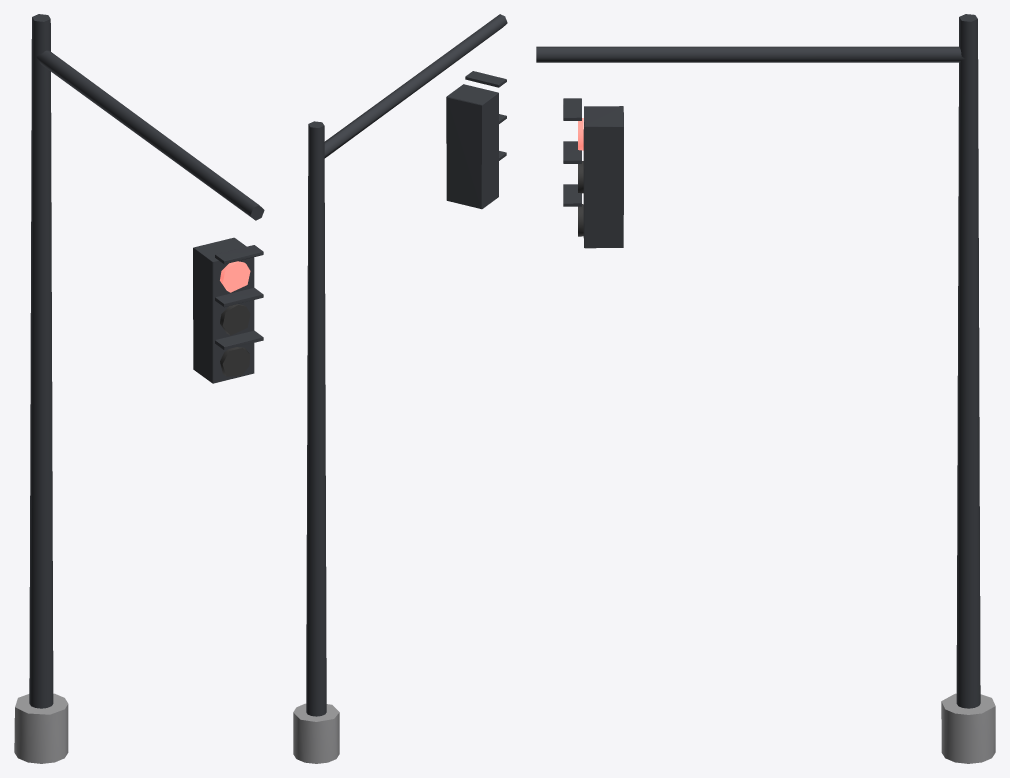
Rendered from prop_traffic_light_lod1.glb.
3 renders of one model, left to right at view 1: azimuth 30°, elevation 25°; view 2: azimuth 150°, elevation 25°; view 3: azimuth 270°, elevation 25°, orthographic. The views are drawn at different scales.
Visible parts, largest first — view 1: signal_mast_lod1, signal_head_lod1, signal_visors_lod1, signal_lens_green_lod1, signal_lens_amber_lod1, signal_lens_red_lod1; view 2: signal_mast_lod1, signal_head_lod1, signal_visors_lod1; view 3: signal_mast_lod1, signal_head_lod1, signal_visors_lod1.
Boxes of the visible parts, x1,y1,x2,y2 form: signal_mast_lod1: (14, 14, 264, 763); signal_head_lod1: (193, 237, 254, 383); signal_visors_lod1: (215, 245, 263, 349); signal_lens_green_lod1: (220, 347, 249, 376); signal_lens_amber_lod1: (220, 304, 250, 335); signal_lens_red_lod1: (220, 261, 250, 292); signal_mast_lod1: (293, 14, 507, 763); signal_head_lod1: (446, 84, 498, 209); signal_visors_lod1: (465, 71, 506, 160); signal_mast_lod1: (536, 14, 995, 763); signal_head_lod1: (583, 106, 623, 248); signal_visors_lod1: (563, 98, 581, 206).
Bounding box in the file's own units: 0.4008 × 6 × 3.4.
